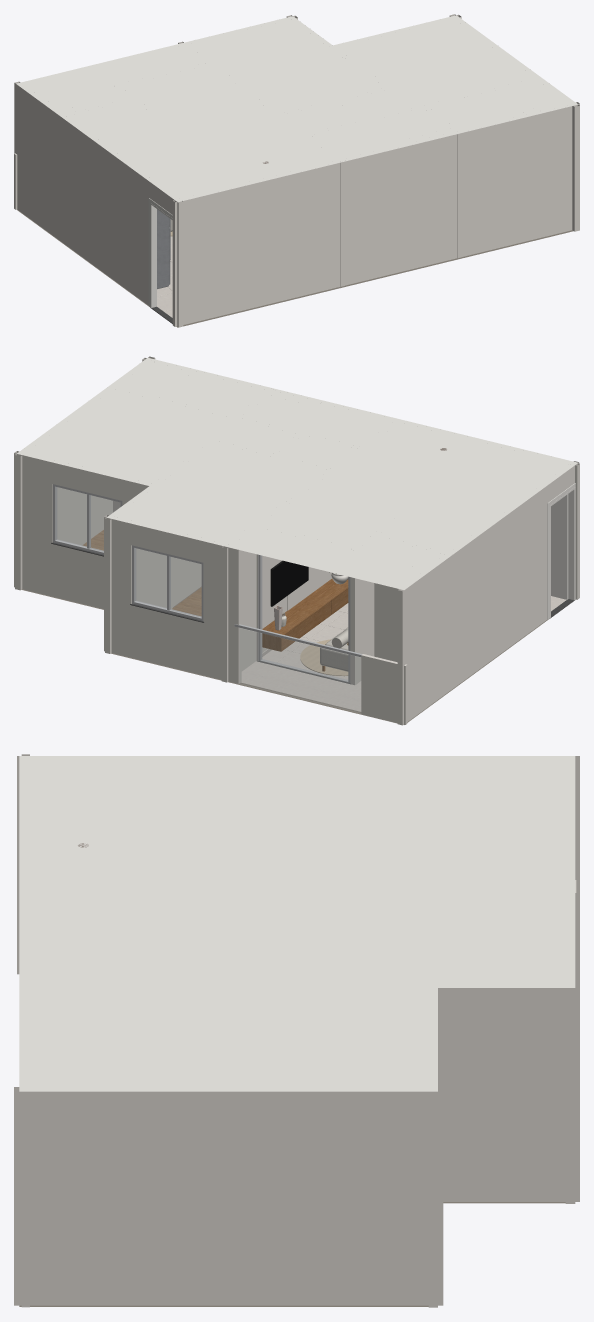
Rendered from apto.glb.
3 views of the same model, one above another, from view 1: azimuth 30°, elevation 25°; view 2: azimuth 150°, elevation 25°; view 3: azimuth 270°, elevation 25° (orthographic). The views are drawn at different scales.
Parts seen in each view (by area): view 1: ARQ_paredes, ARQ_forro, ARQ_esquadrias, MOV_geladeira, laje_inferior, ARQ_piso_porcelanato; view 2: ARQ_forro, ARQ_paredes, VIDROS, ARQ_esquadrias, ARQ_pisos, MOV_rack, ARQ_piso_porcelanato, MOV_tv, laje_inferior, MOV_sofa, MOV_tapete; view 3: ARQ_forro, ARQ_paredes, laje_inferior.
Boxes of the visible parts, box(x1,y1,x2,y2) form: ARQ_paredes: box(14, 14, 579, 327); ARQ_forro: box(16, 15, 577, 202); ARQ_esquadrias: box(148, 198, 172, 323); MOV_geladeira: box(157, 209, 170, 288); laje_inferior: box(17, 209, 573, 327); ARQ_piso_porcelanato: box(157, 236, 172, 317); ARQ_forro: box(17, 358, 577, 589); ARQ_paredes: box(14, 356, 579, 725); VIDROS: box(56, 487, 360, 712); ARQ_esquadrias: box(51, 483, 575, 684); ARQ_pisos: box(83, 530, 361, 711); MOV_rack: box(262, 578, 348, 651); ARQ_piso_porcelanato: box(262, 596, 566, 679); MOV_tv: box(270, 560, 308, 606); laje_inferior: box(22, 586, 549, 723); MOV_sofa: box(320, 627, 348, 671); MOV_tapete: box(300, 639, 348, 676); ARQ_forro: box(19, 756, 575, 1091); ARQ_paredes: box(14, 754, 579, 1307); laje_inferior: box(19, 1202, 565, 1306).
Bounding box in the file's own units: 8.49 × 2.52 × 5.99.
Materials: 40 (25 with a texture image).
